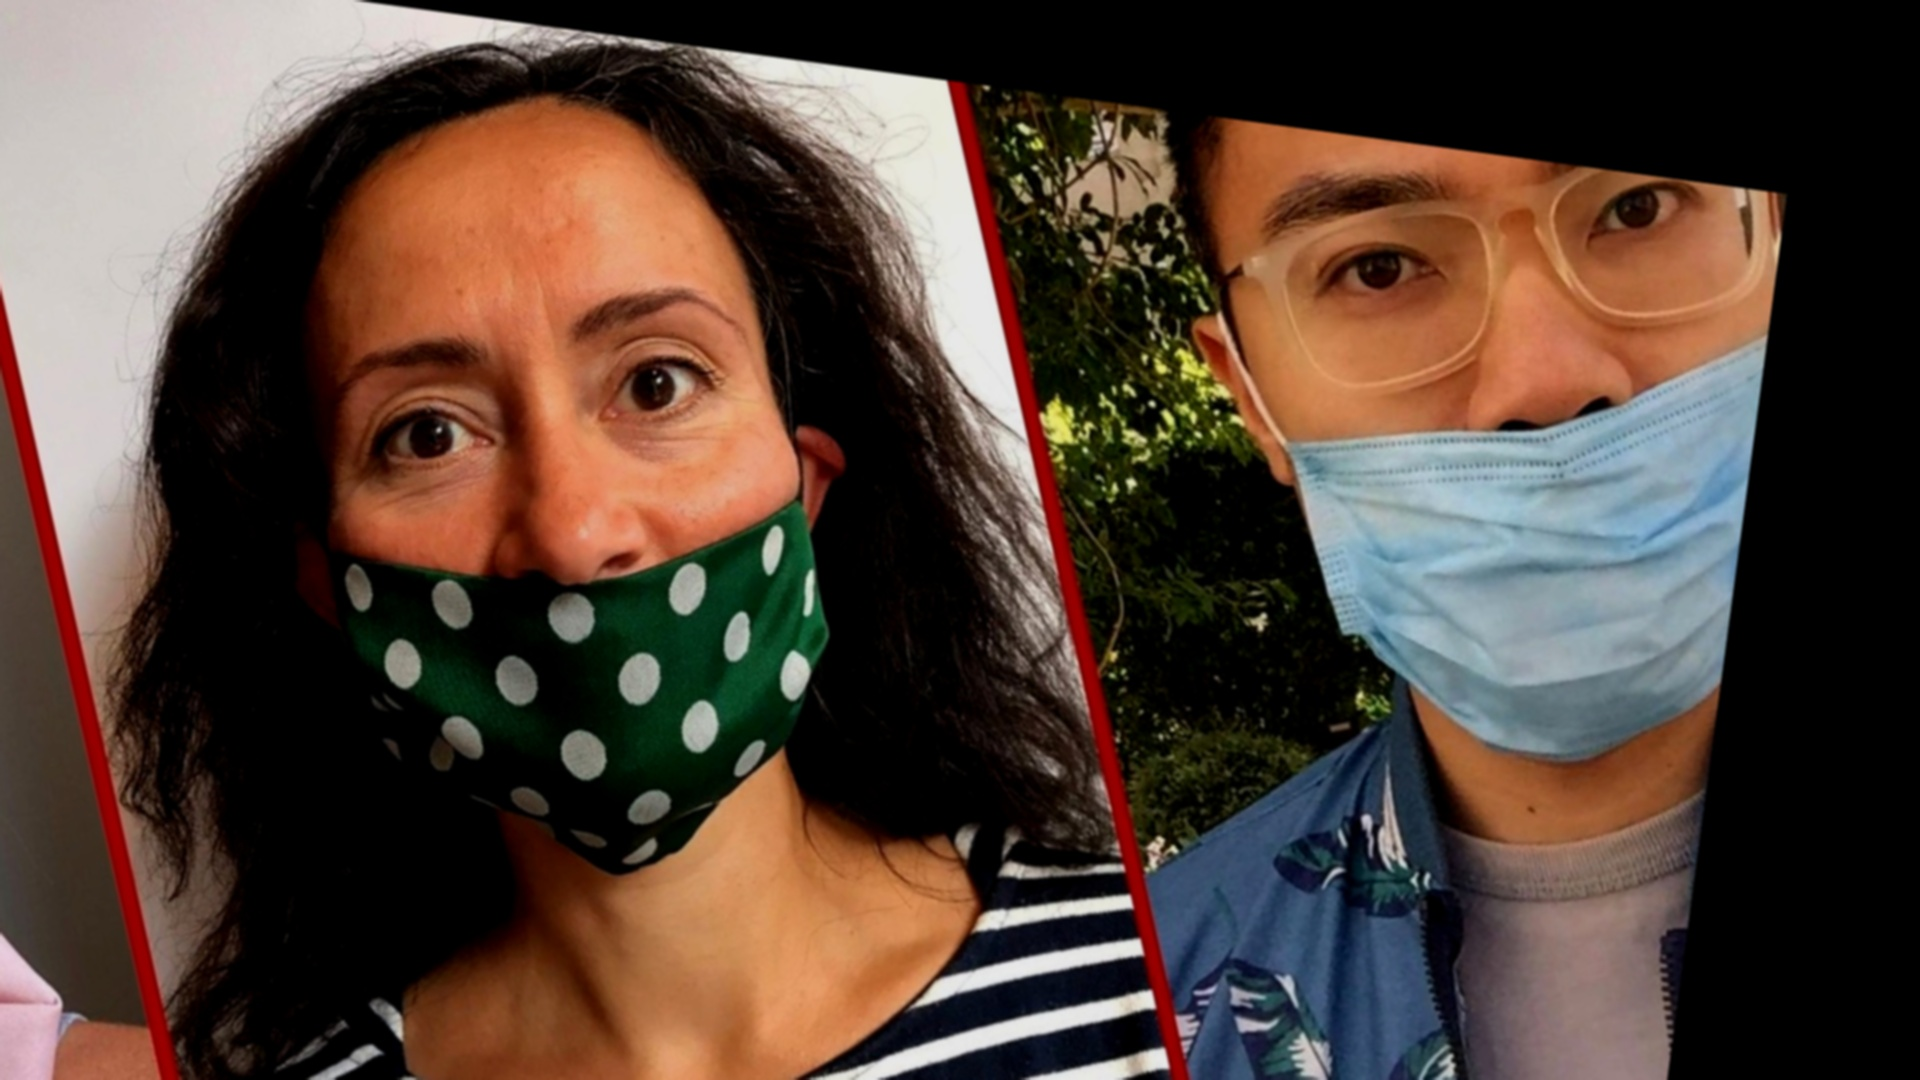mask_weared_incorrect: (300, 63, 907, 895), (1195, 86, 1823, 765)
